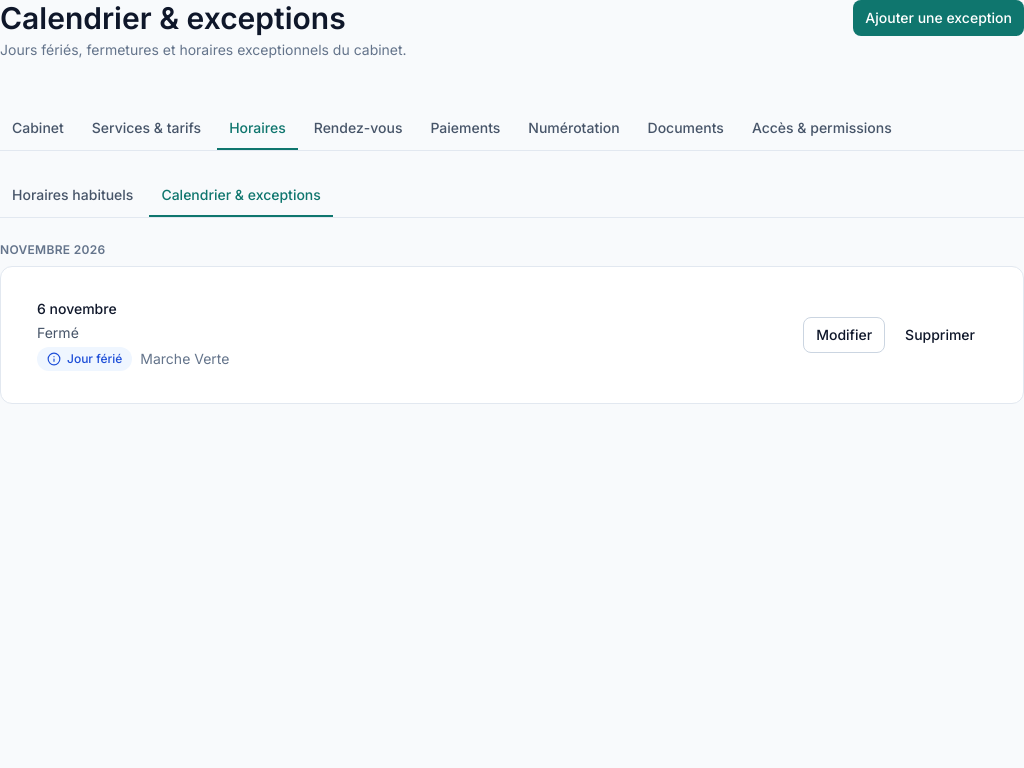
Scenario: CalendarExceptionsPage › editing a future exception pre-fills the form and updates the row on save
The image size is (1024, 768).
Click the button "Modifier".
click(844, 335)  # box 803,317 -> 885,353
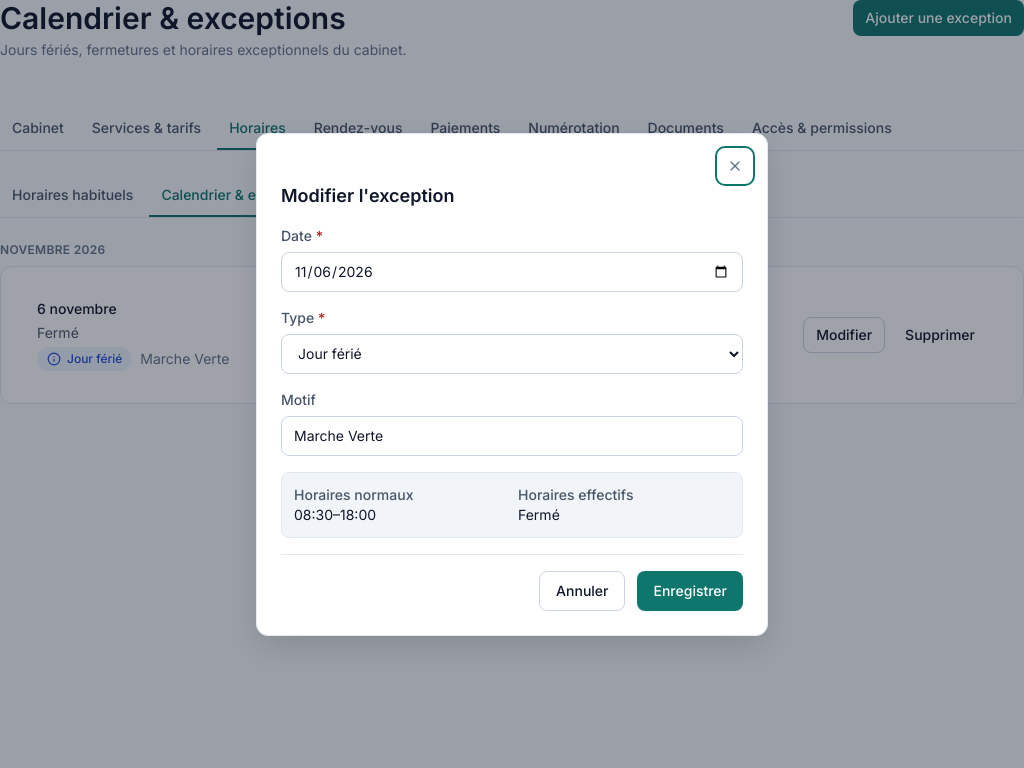
Now the date field labelled "Date *" holds "2026-11-06", box 281,252 -> 743,292
Replace the text in the field labelled "Motif" with "Marche Verte (mise à jour)" at (512, 436), box 281,416 -> 743,456
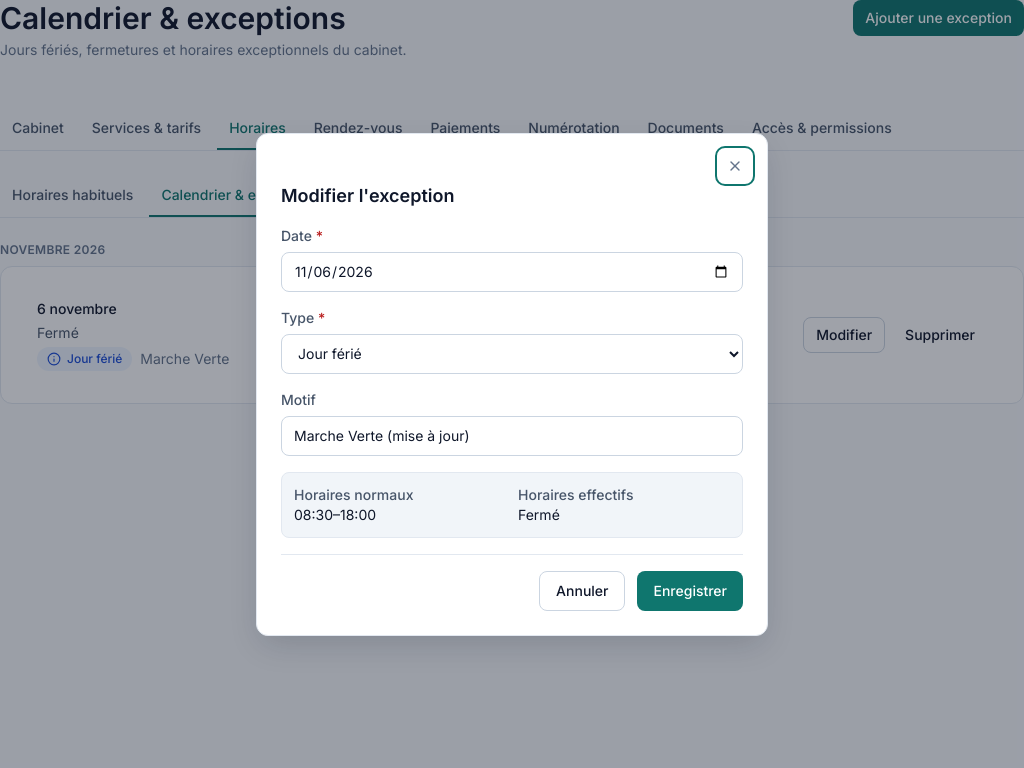
Click the button "Enregistrer".
click(690, 590)  # box 638,570 -> 743,610
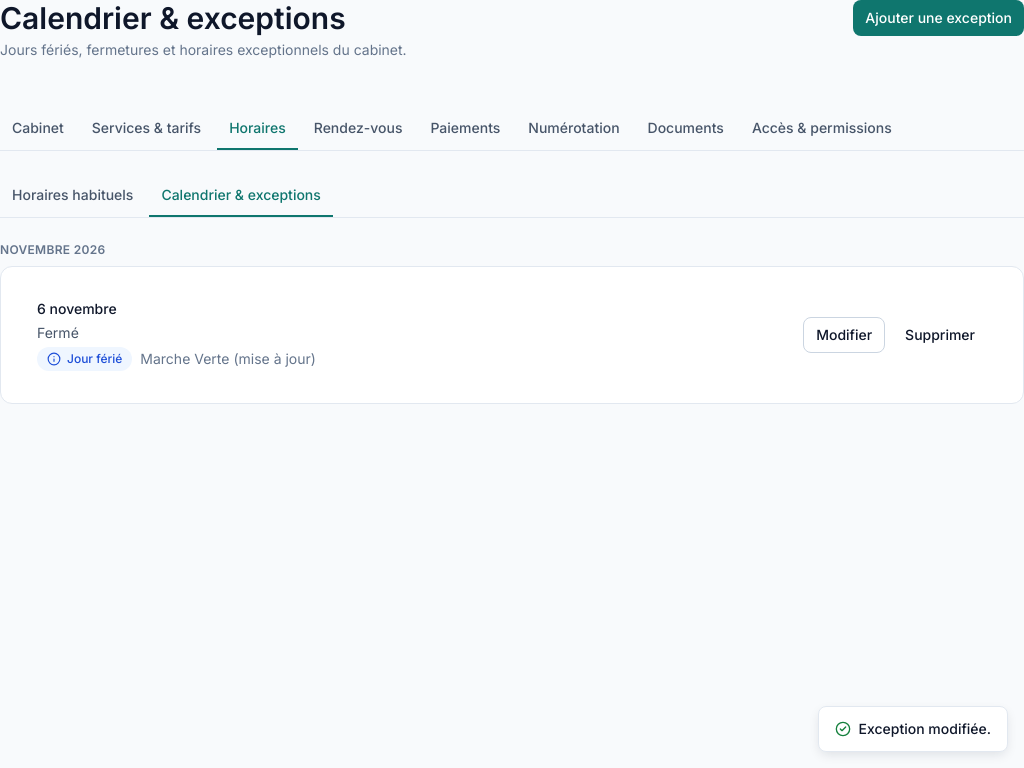
Now the text "Exception modifiée." is shown, box 818,706 -> 1008,752
Now the text "Marche Verte (mise à jour)" is shown, box 140,349 -> 316,369
